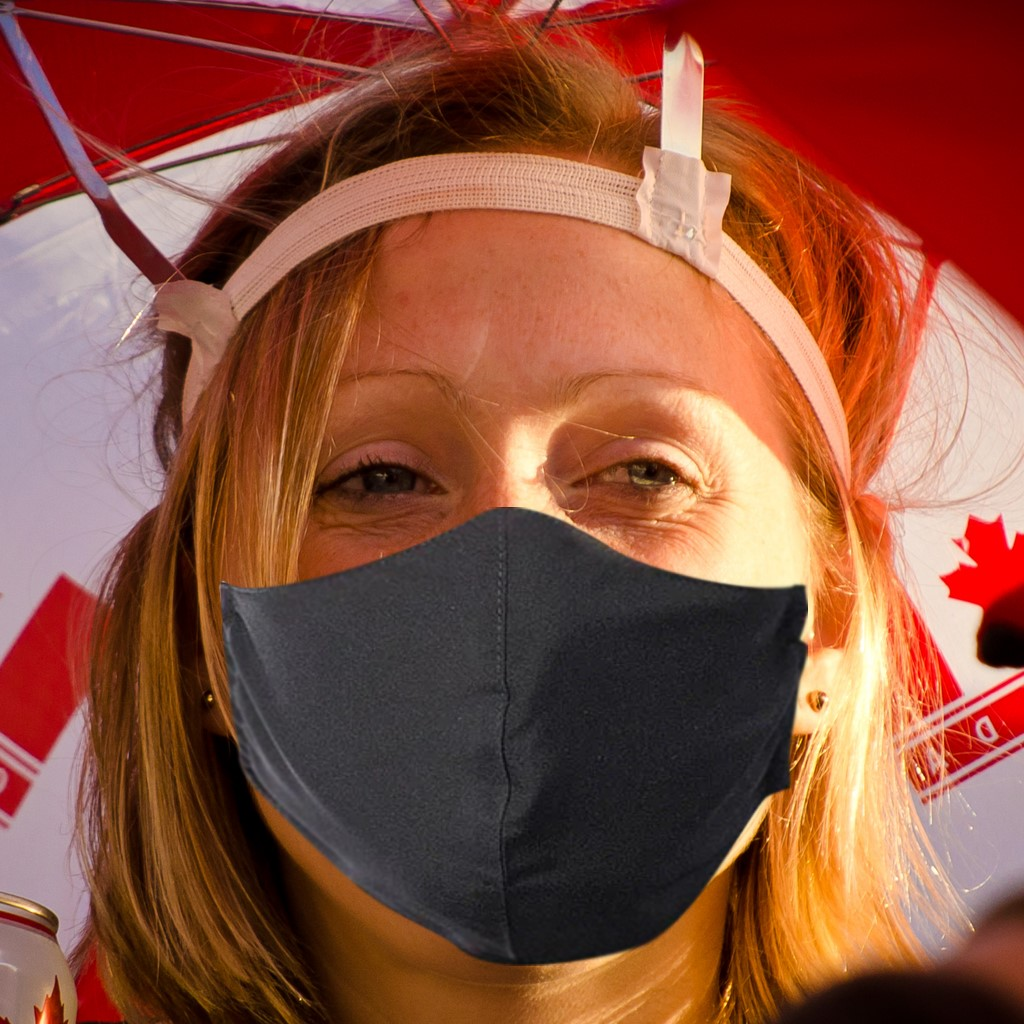con_mascara: (174, 162, 831, 959)
